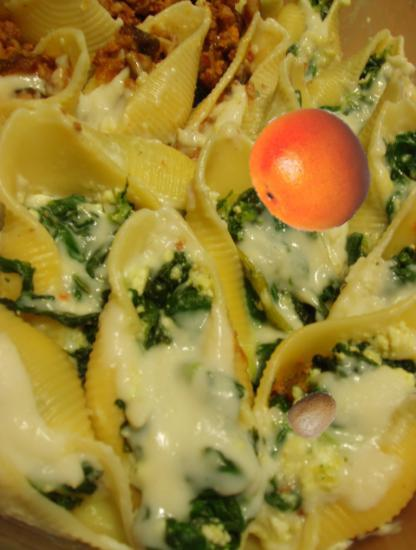Grapefruit: (247, 106, 375, 234)
Kiwi: (286, 388, 340, 442)
